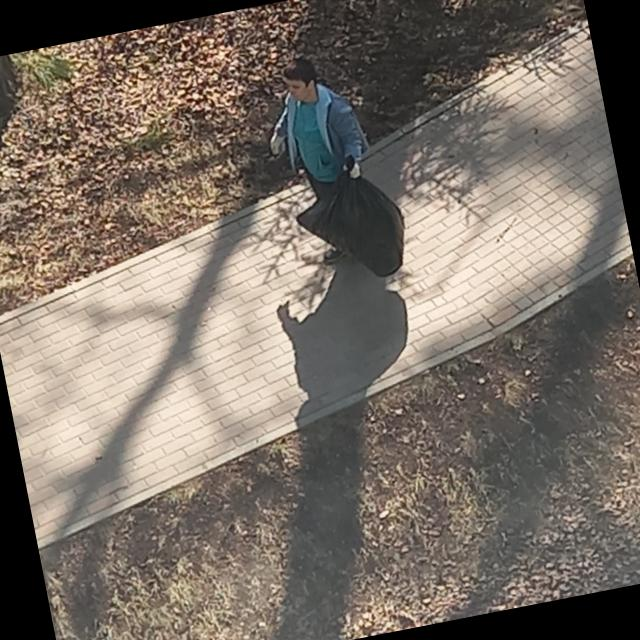person: (255, 44, 404, 288)
